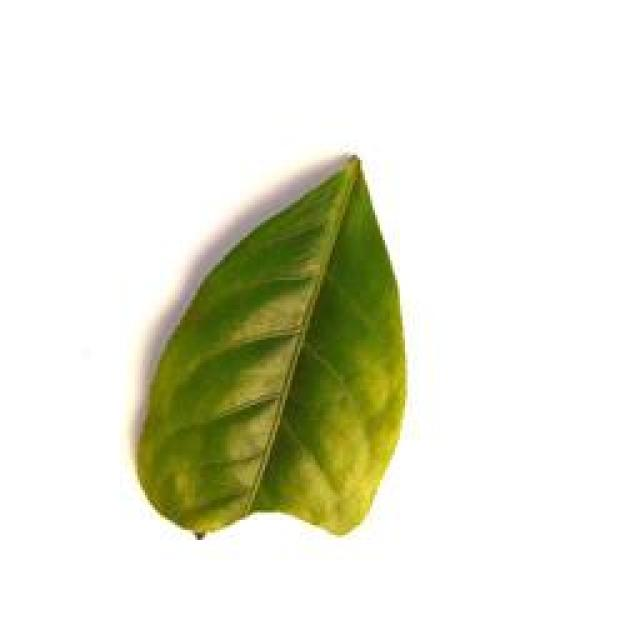Healthy: (126, 139, 428, 554)
